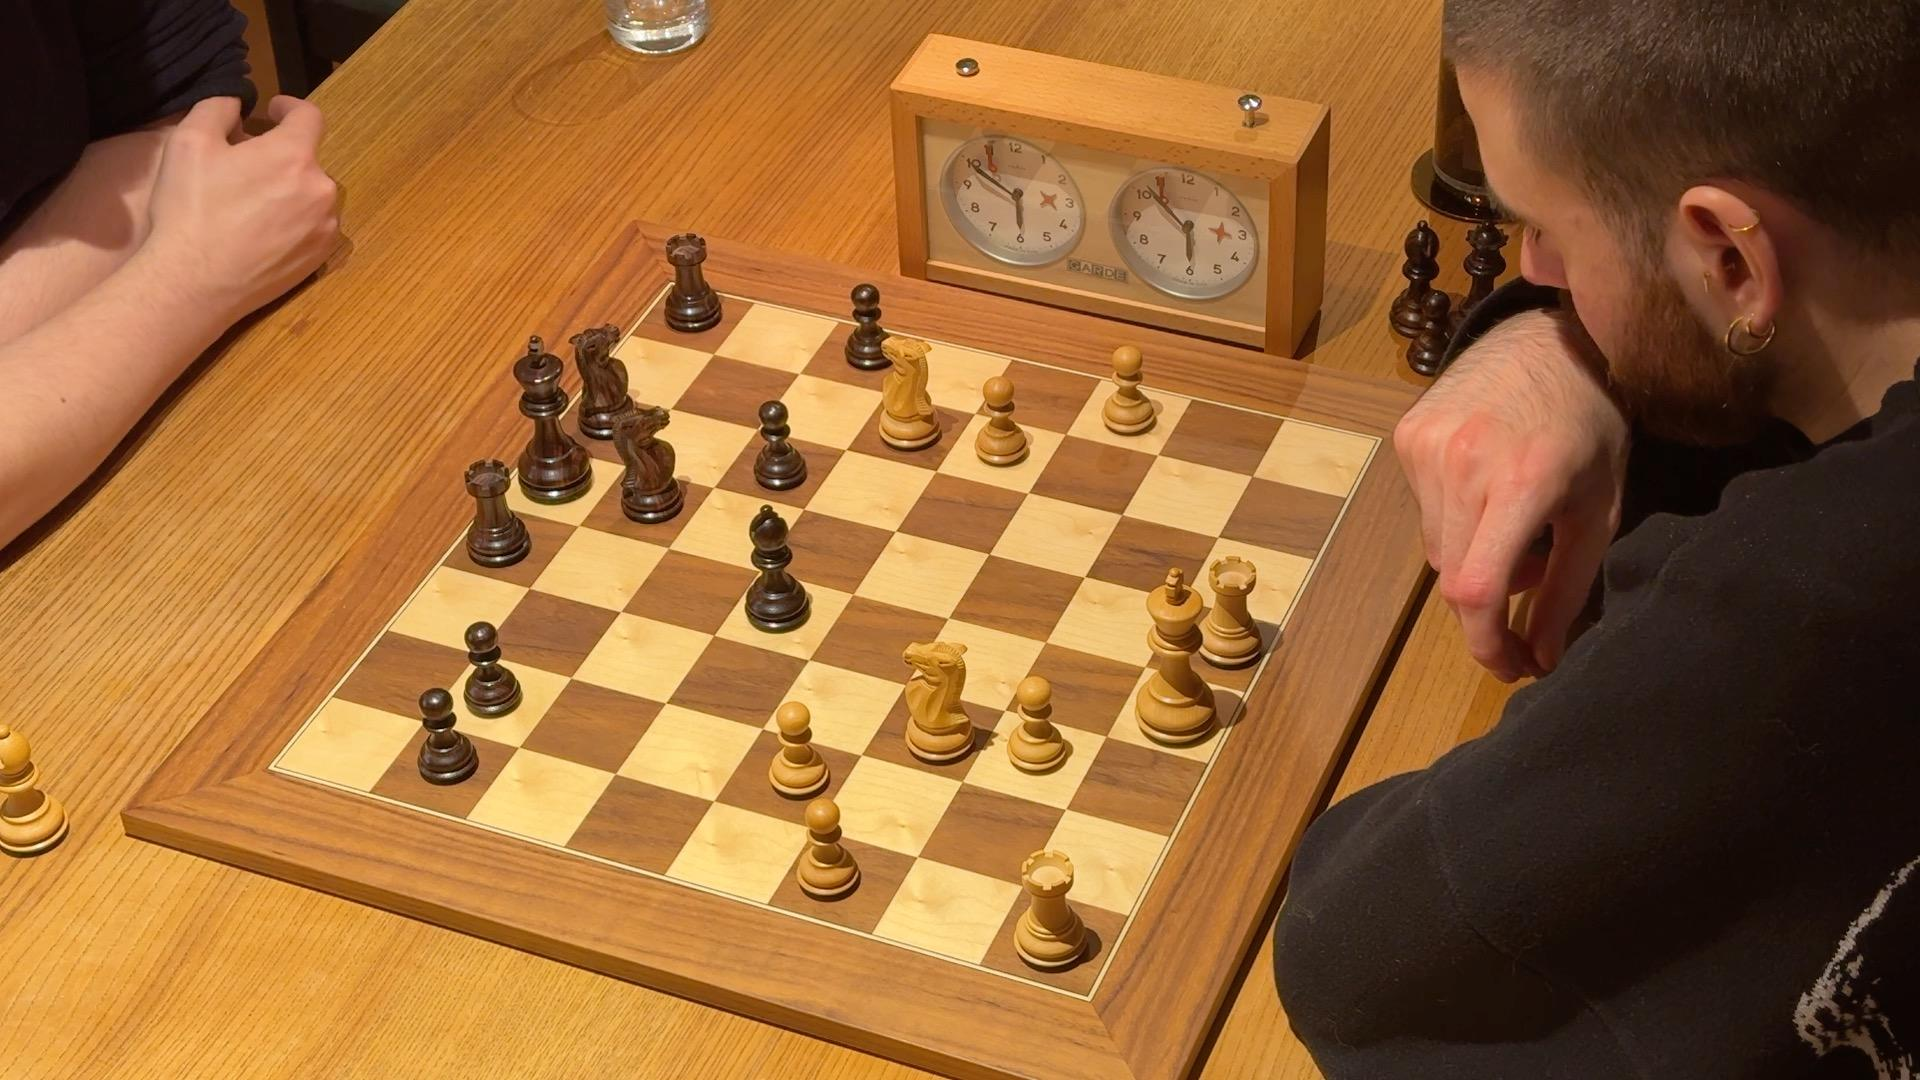Black Bishop: (740, 500, 812, 637)
Black King: (513, 332, 597, 510)
Black Knight: (560, 319, 653, 447), (608, 401, 688, 524)
Black Pawn: (462, 616, 527, 723), (415, 684, 483, 789), (839, 278, 901, 372), (748, 401, 807, 495)
Black Rook: (455, 451, 537, 576), (661, 228, 729, 336)
White King: (1130, 563, 1221, 748)
White Knight: (898, 625, 977, 773), (870, 328, 948, 458)
White Pawn: (791, 796, 865, 907), (765, 696, 833, 803), (1006, 674, 1072, 778), (972, 372, 1031, 472), (1097, 340, 1158, 438)
White Rook: (1014, 847, 1093, 977), (1196, 554, 1266, 670)
